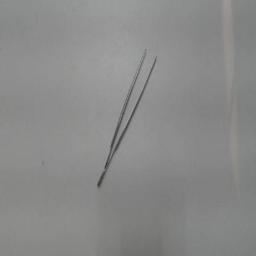Gillies Toothed Dissector: (95, 43, 165, 191)
